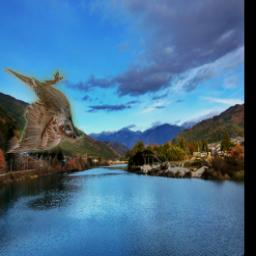Sparrow: (3, 67, 84, 153)
